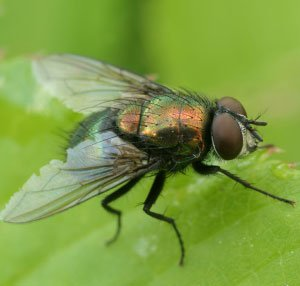fly: (1, 50, 297, 265)
